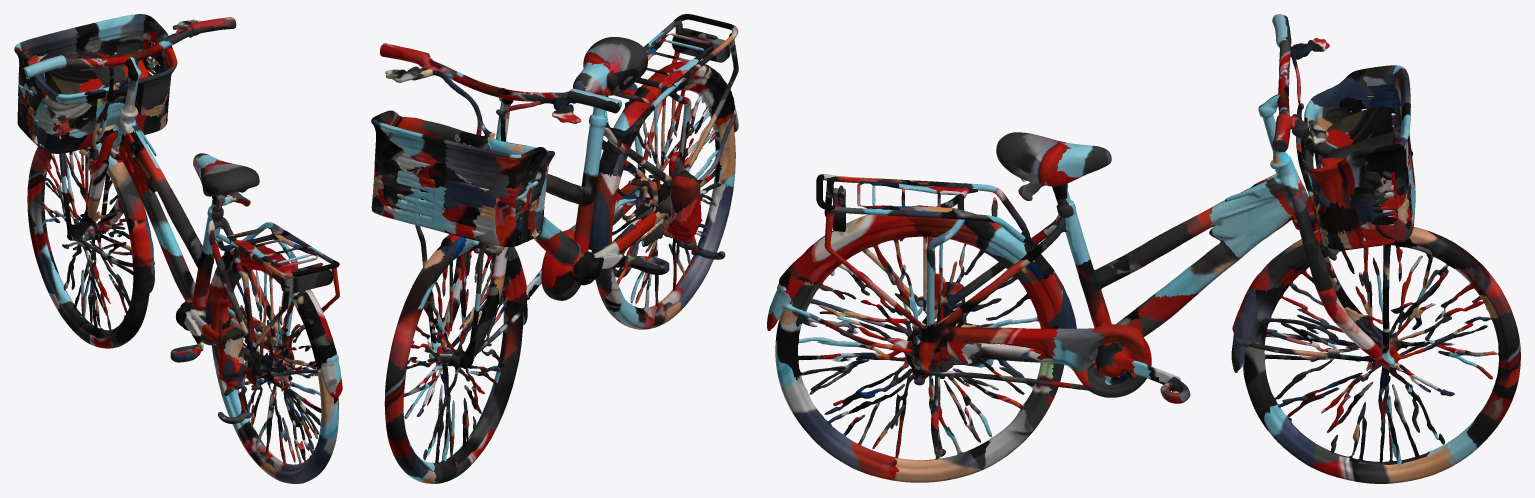
3 renders of one model, left to right at view 1: azimuth 30°, elevation 25°; view 2: azimuth 150°, elevation 25°; view 3: azimuth 270°, elevation 25°, orthographic. The views are drawn at different scales.
Parts seen in each view (by area): view 1: tripo_node_1875a9bf-e7a3-42d8-9c83-63dab812c619; view 2: tripo_node_1875a9bf-e7a3-42d8-9c83-63dab812c619; view 3: tripo_node_1875a9bf-e7a3-42d8-9c83-63dab812c619.
Boxes of the visible parts, x1=… form: tripo_node_1875a9bf-e7a3-42d8-9c83-63dab812c619: x1=14, y1=14, x2=342, y2=483; tripo_node_1875a9bf-e7a3-42d8-9c83-63dab812c619: x1=371, y1=14, x2=738, y2=483; tripo_node_1875a9bf-e7a3-42d8-9c83-63dab812c619: x1=767, y1=14, x2=1520, y2=483.
Bounding box in the file's own units: 39.78 × 59.64 × 100.
